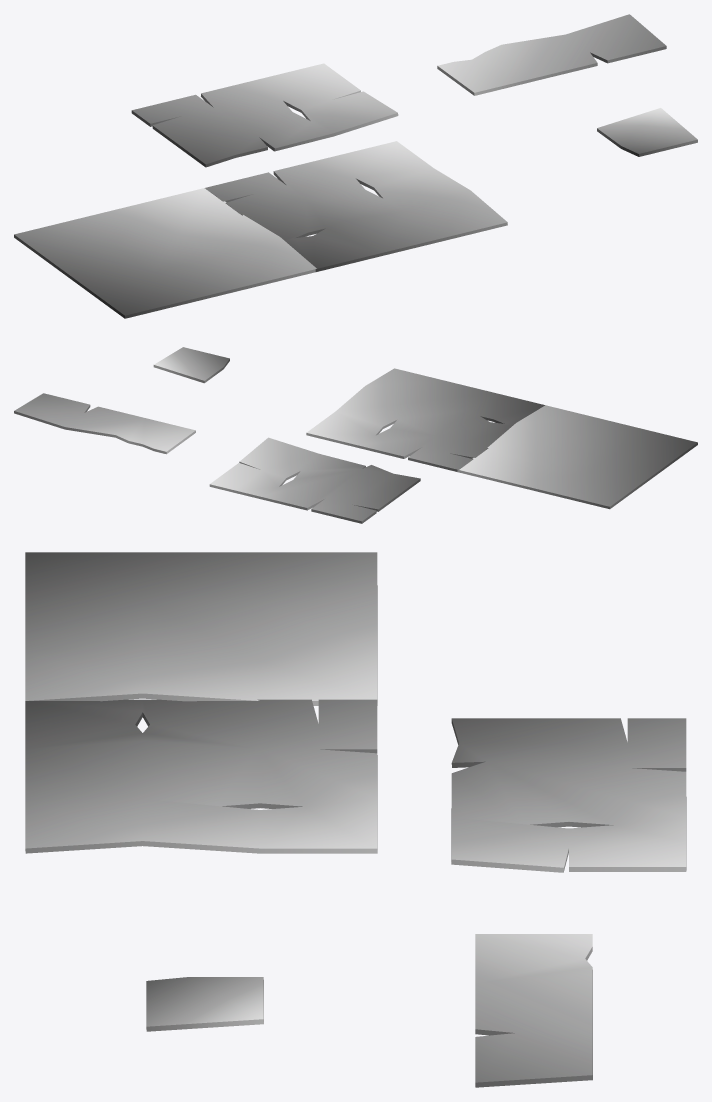
The model's file is Sheets.fbx.
3 views of the same model, one above another, from view 1: azimuth 30°, elevation 25°; view 2: azimuth 150°, elevation 25°; view 3: azimuth 270°, elevation 25° (orthographic). The views are drawn at different scales.
Visible parts, largest first — view 1: Sheet_1, Sheet_2, Sheet_3, Sheet_5, Sheet_4; view 2: Sheet_1, Sheet_2, Sheet_3, Sheet_5, Sheet_4; view 3: Sheet_2, Sheet_1, Sheet_3, Sheet_5, Sheet_4.
Boxes of the visible parts, <box> form: Sheet_1: <box>14,188,316,318</box>; Sheet_2: <box>205,141,507,271</box>; Sheet_3: <box>131,63,398,167</box>; Sheet_5: <box>437,14,666,95</box>; Sheet_4: <box>597,108,697,156</box>; Sheet_1: <box>457,405,697,509</box>; Sheet_2: <box>306,368,544,471</box>; Sheet_3: <box>209,437,420,523</box>; Sheet_5: <box>14,393,195,454</box>; Sheet_4: <box>153,347,229,383</box>; Sheet_2: <box>25,699,377,853</box>; Sheet_1: <box>25,552,377,705</box>; Sheet_3: <box>451,718,686,872</box>; Sheet_5: <box>475,934,592,1087</box>; Sheet_4: <box>146,977,263,1031</box>.
Bounding box in the file's own units: 1485 × 29.62 × 784.
